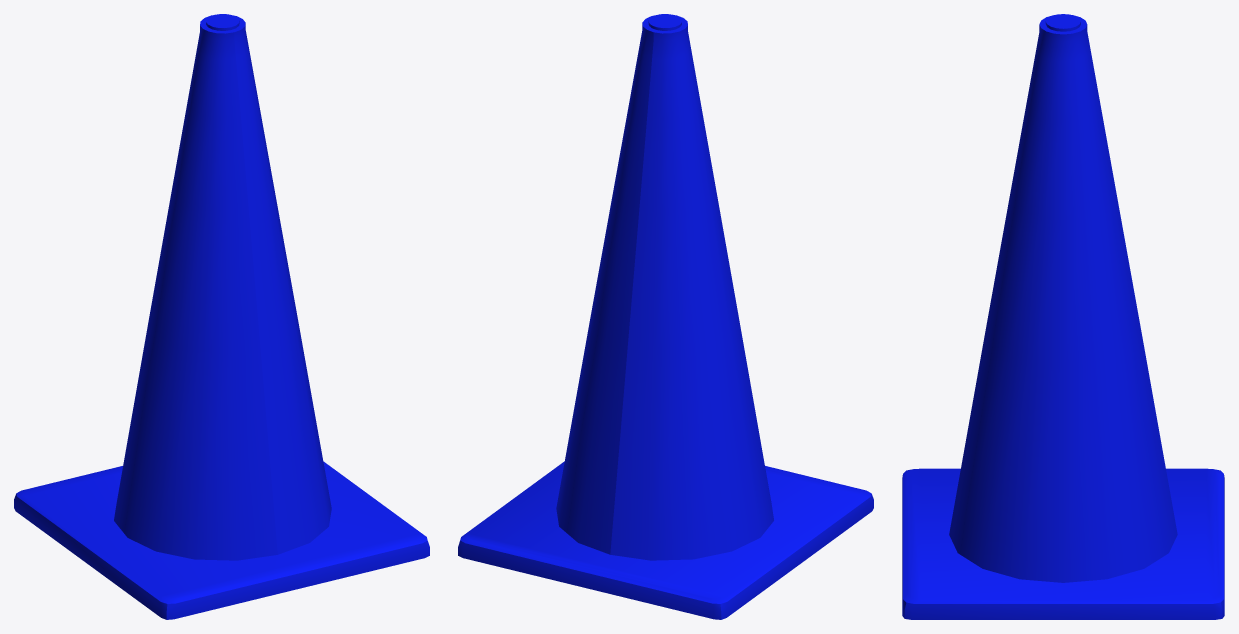
The model's file is road_cone_clear.FBX.
3 renders of one model, left to right at view 1: azimuth 30°, elevation 25°; view 2: azimuth 150°, elevation 25°; view 3: azimuth 270°, elevation 25°, orthographic. The views are drawn at different scales.
Parts seen in each view (by area): view 1: road_cone_LP; view 2: road_cone_LP; view 3: road_cone_LP.
Boxes of the visible parts, x1=… form: road_cone_LP: x1=14, y1=14, x2=429, y2=619; road_cone_LP: x1=458, y1=14, x2=873, y2=619; road_cone_LP: x1=902, y1=14, x2=1224, y2=619.
Size of the model in its own units: 21.71 by 39.64 by 21.82.
